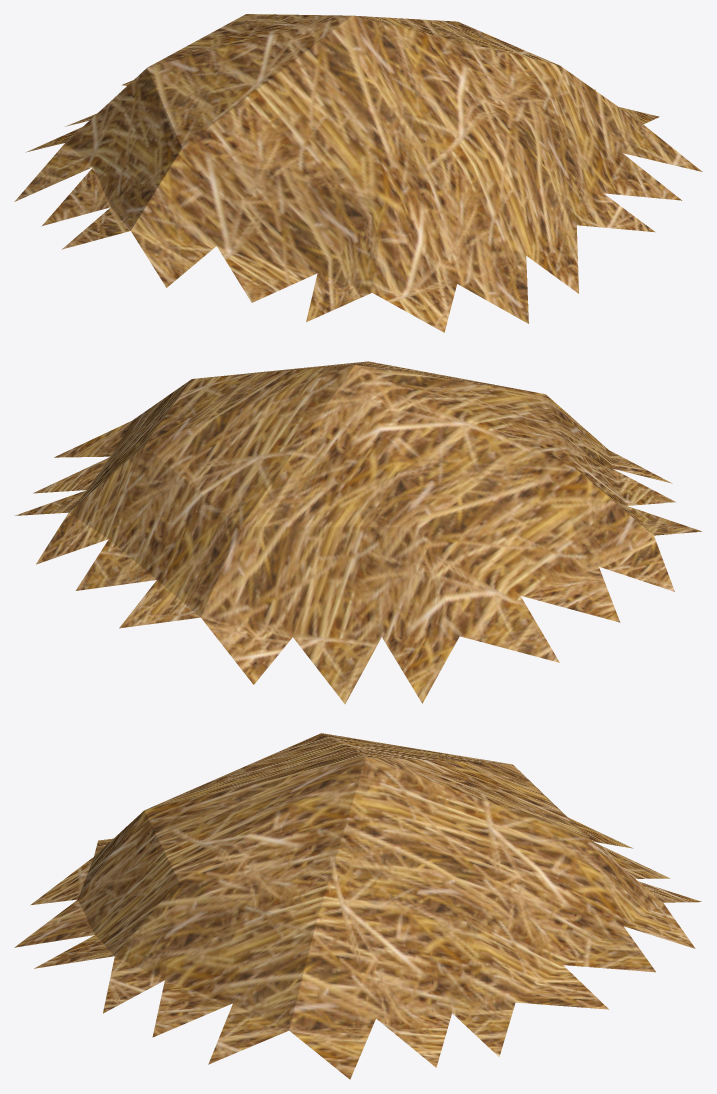
Rendered from hay.glb.
The picture shows the model from 3 angles, top to bottom: view 1: azimuth 30°, elevation 25°; view 2: azimuth 150°, elevation 25°; view 3: azimuth 270°, elevation 25°; orthographic projection. The views are drawn at different scales.
Visible parts, largest first — view 1: Cone; view 2: Cone; view 3: Cone.
Part boxes in pixels (bbox=[...]): Cone: bbox=[14, 14, 702, 332]; Cone: bbox=[14, 361, 701, 703]; Cone: bbox=[14, 733, 701, 1079].
Size of the model in its own units: 1.91 by 0.5663 by 1.85.
Materials: 1 (1 with a texture image).
